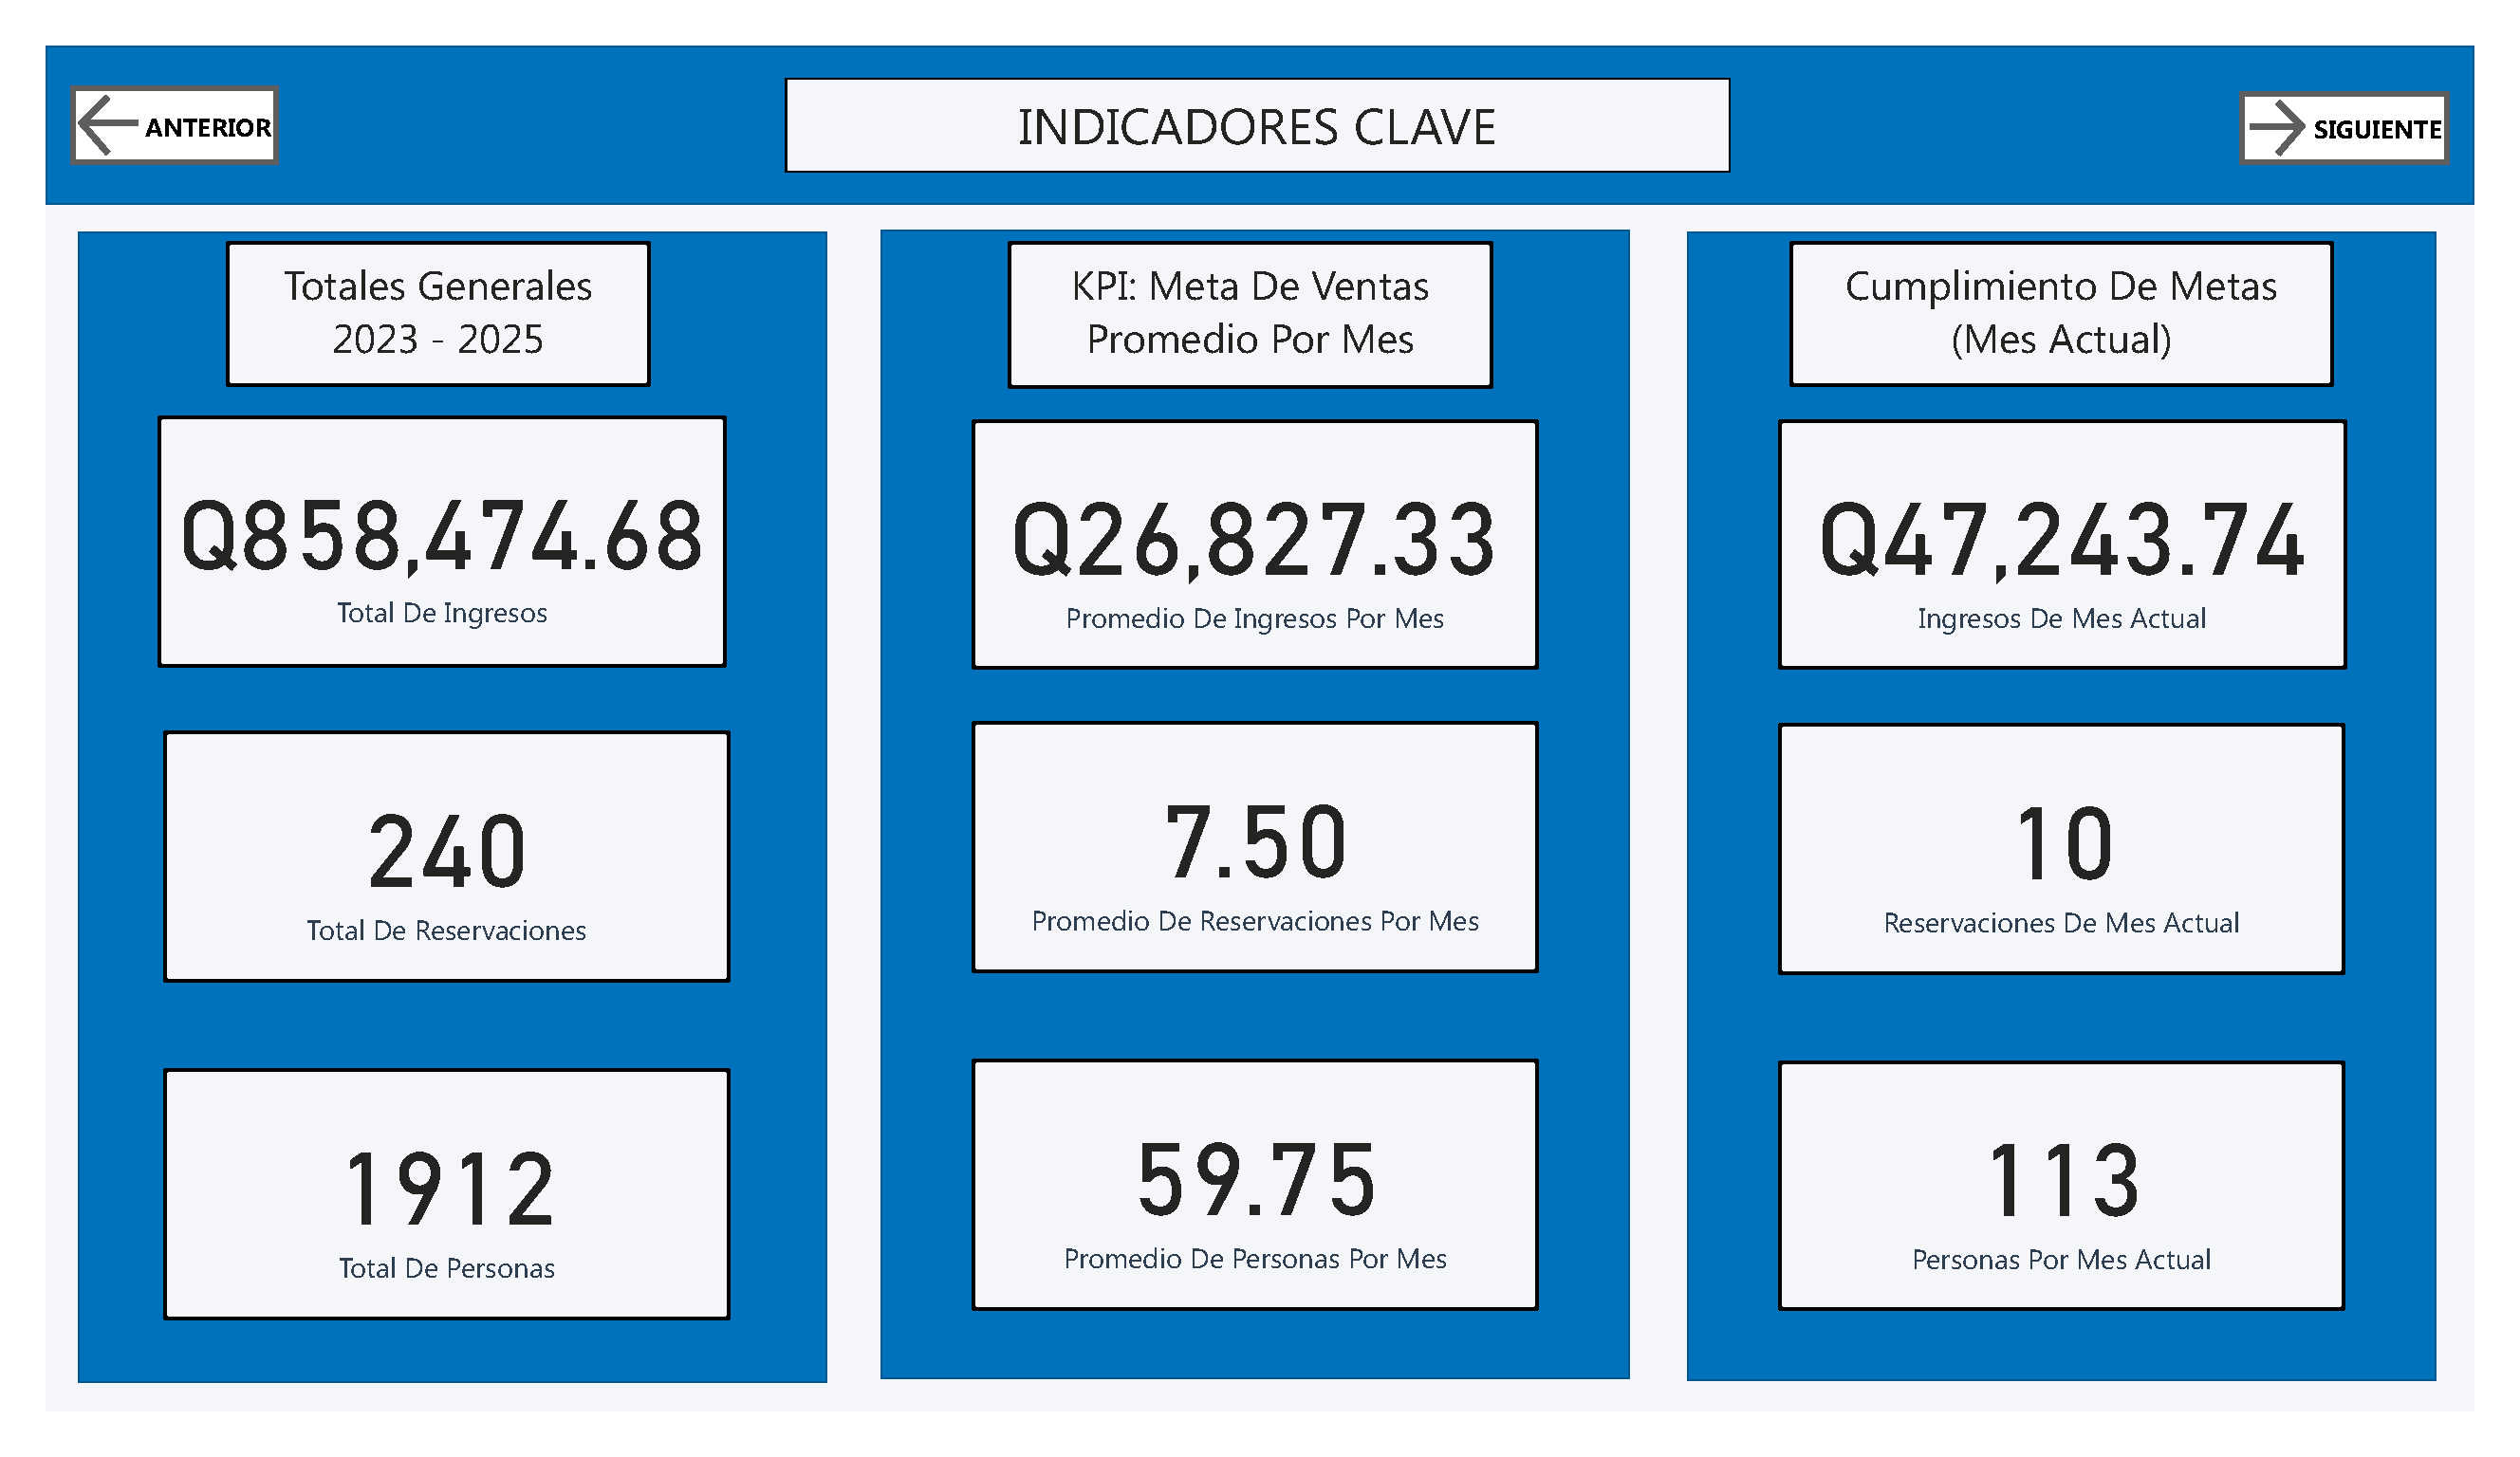

This screenshot's page, from the dashboard's own definition file:
{"tool":"powerbi","page":{"name":"KPI","canvas":[1280,720],"ordinal":7},"visuals":[{"type":"shape","box":[0,0,1280,83.8],"z":0},{"type":"shape","box":[439.9,97.5,395,606],"z":0,"group":"g2"},{"type":"shape","box":[864.9,97.6,395.1,606],"z":0,"group":"g3"},{"type":"textbox","box":[390,16.7,498.3,50],"z":1000},{"type":"shape","box":[17.4,97.6,395.1,606.7],"z":2000,"group":"g1"},{"type":"actionButton","box":[1156.4,23.7,110.6,39.5],"z":3000},{"type":"actionButton","title":"Atras","box":[13.2,21.1,109.8,42.1],"z":4000},{"type":"card","fields":{"Values":["Sum(metricas_kpi3.Promedio_Ingresos_Por_Mes)"]},"box":[487.9,197.3,298.5,132.5],"z":4000,"group":"g2"},{"type":"group","id":"g1","title":"Grupo 1","box":[17.4,97.6,395.1,606.7],"z":5000},{"type":"card","fields":{"Values":["Sum(metricas_kpi3.Promedio_Reservaciones_Por_Mes)"]},"box":[487.7,357,299.3,132.4],"z":5000,"group":"g2"},{"type":"group","id":"g2","title":"Grupo 3","box":[439.9,97.5,395,606],"z":6000},{"type":"card","fields":{"Values":["Sum(metricas_kpi3.Total_Reservaciones)"]},"box":[62.3,360.8,299.1,132.7],"z":6000,"group":"g1"},{"type":"card","fields":{"Values":["Sum(metricas_kpi3.Promedio_Personas_Por_Mes)"]},"box":[487.7,534.8,299.3,132.4],"z":6000,"group":"g2"},{"type":"group","id":"g3","title":"Grupo 2","box":[864.9,97.6,395.1,606],"z":7000},{"type":"card","fields":{"Values":["Sum(metricas_kpi3.Ingresos_Mes_Actual)"]},"box":[912.8,196.6,300.1,132.5],"z":7000,"group":"g3"},{"type":"card","fields":{"Values":["Sum(metricas_kpi3.Total_Personas)"]},"box":[62.3,539,299.1,132.7],"z":7000,"group":"g1"},{"type":"card","fields":{"Values":["Sum(metricas_kpi3.Reservaciones_Mes_Actual)"]},"box":[912.7,357.1,299.4,132.4],"z":8000,"group":"g3"},{"type":"card","fields":{"Values":["Sum(metricas_kpi3.Personas_Mes_Actual)"]},"box":[912.7,534.9,299.4,131.7],"z":9000,"group":"g3"},{"type":"textbox","box":[95.5,102.9,223.9,76.4],"z":10000,"group":"g1"},{"type":"card","fields":{"Values":["Sum(metricas_kpi3.Total_Ingresos)"]},"box":[58.9,195,300.1,132.5],"z":11000,"group":"g1"},{"type":"textbox","box":[919.3,102.9,286.2,76.4],"z":15000,"group":"g3"},{"type":"textbox","box":[507.1,103.1,255.4,78.2],"z":15000,"group":"g2"}]}

Visuals, with their boxes in screenshot pixels (x1, y1, x2, y2), scaled from the page's 1280x720 canvas onto the 2520x1457 screenshot:
shape: x1=0 y1=0 x2=2519 y2=170
shape: x1=866 y1=197 x2=1643 y2=1424
shape: x1=1703 y1=197 x2=2480 y2=1424
textbox: x1=768 y1=34 x2=1749 y2=135
shape: x1=34 y1=197 x2=812 y2=1426
actionButton: x1=2277 y1=48 x2=2494 y2=128
"Atras" actionButton: x1=26 y1=43 x2=242 y2=128
card - Sum(metricas_kpi3.Promedio_Ingresos_Por_Mes): x1=960 y1=399 x2=1548 y2=668
"Grupo 1" group: x1=34 y1=197 x2=812 y2=1426
card - Sum(metricas_kpi3.Promedio_Reservaciones_Por_Mes): x1=960 y1=723 x2=1549 y2=990
"Grupo 3" group: x1=866 y1=197 x2=1643 y2=1424
card - Sum(metricas_kpi3.Total_Reservaciones): x1=122 y1=730 x2=712 y2=999
card - Sum(metricas_kpi3.Promedio_Personas_Por_Mes): x1=960 y1=1082 x2=1549 y2=1350
"Grupo 2" group: x1=1703 y1=197 x2=2480 y2=1424
card - Sum(metricas_kpi3.Ingresos_Mes_Actual): x1=1797 y1=397 x2=2388 y2=666
card - Sum(metricas_kpi3.Total_Personas): x1=122 y1=1091 x2=712 y2=1359
card - Sum(metricas_kpi3.Reservaciones_Mes_Actual): x1=1797 y1=723 x2=2386 y2=990
card - Sum(metricas_kpi3.Personas_Mes_Actual): x1=1797 y1=1082 x2=2386 y2=1349
textbox: x1=188 y1=209 x2=629 y2=363
card - Sum(metricas_kpi3.Total_Ingresos): x1=116 y1=395 x2=707 y2=663
textbox: x1=1810 y1=209 x2=2373 y2=363
textbox: x1=998 y1=209 x2=1501 y2=367
